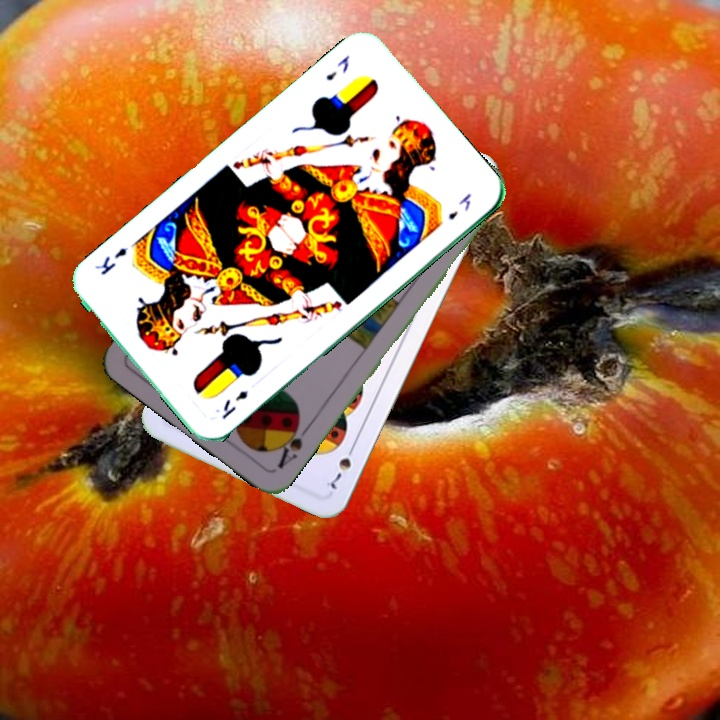EK: (217, 386, 251, 422), (321, 51, 352, 83)
S7: (322, 439, 358, 492)
SA: (272, 415, 313, 472)
